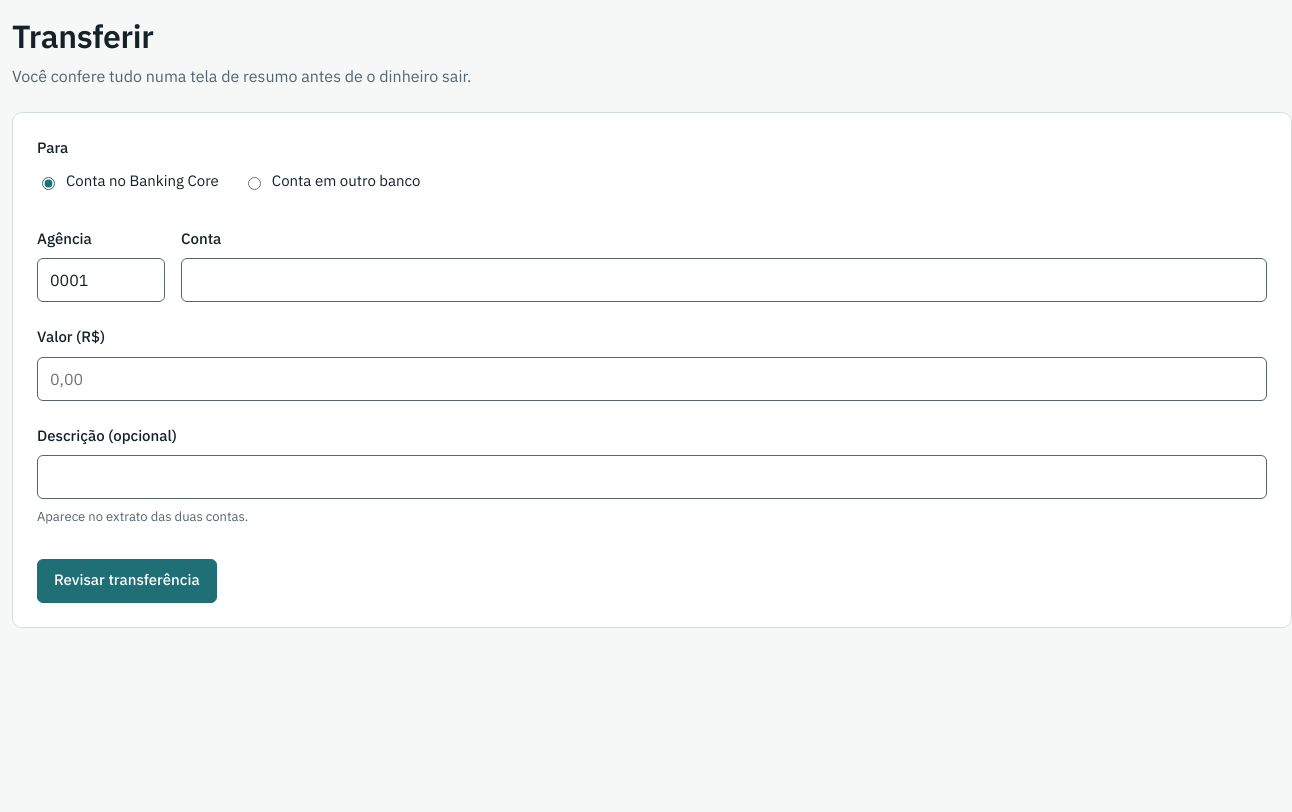
Scenario: Transferir › valor inválido não chega à API
Type "2" into the field labelled "Conta".
click(724, 280); type("2")  # box [181,258,1267,302]
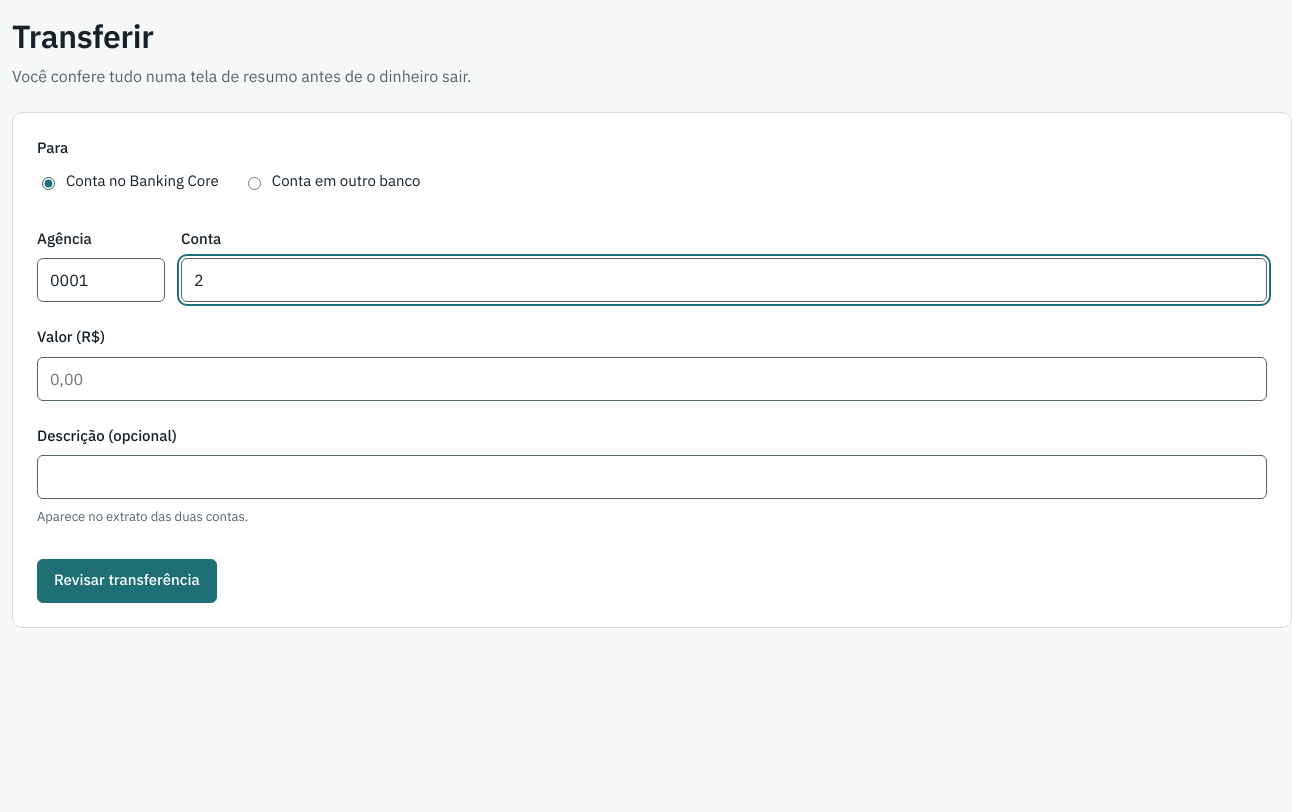
Type "12,345" into the field labelled "Valor (R$)".
click(652, 378); type("12,345")  # box [37,356,1267,400]
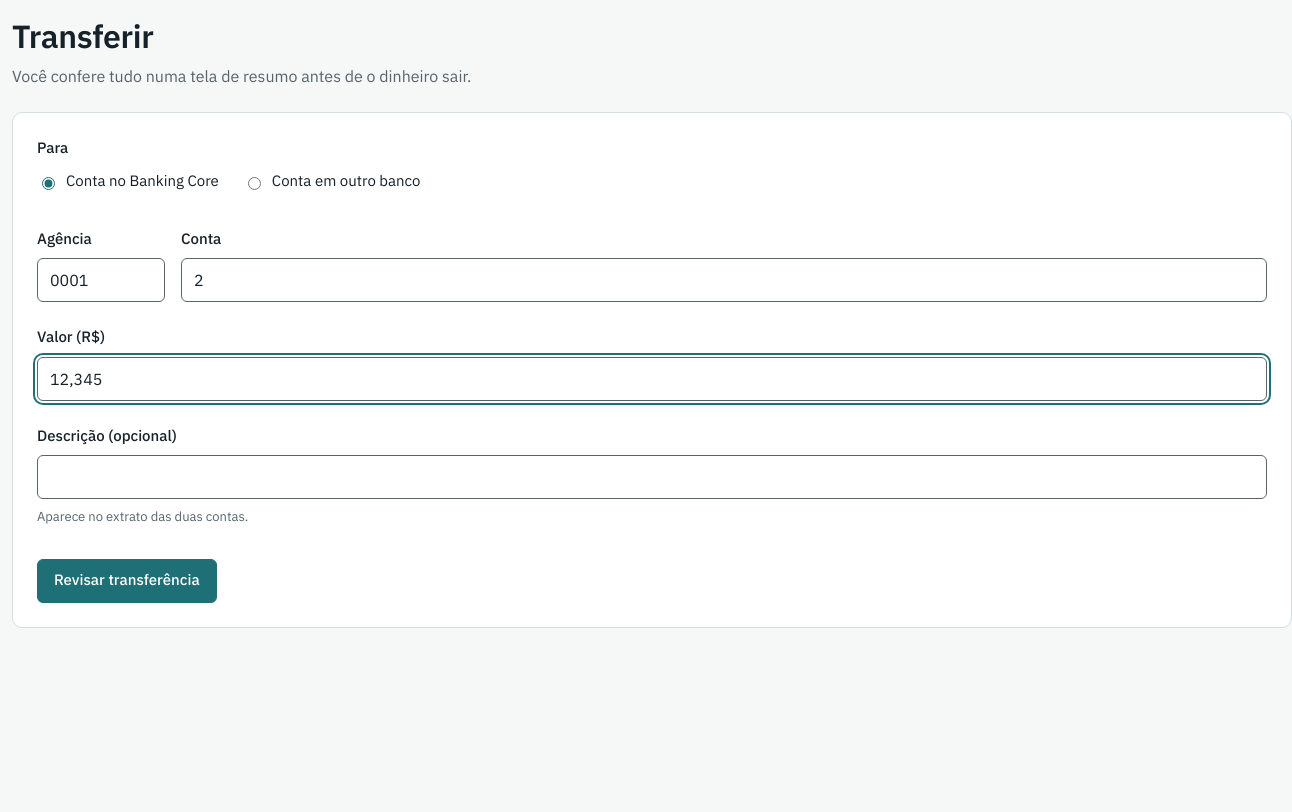
Click the button "Revisar transferência".
click(127, 580)  # box [37,558,217,602]
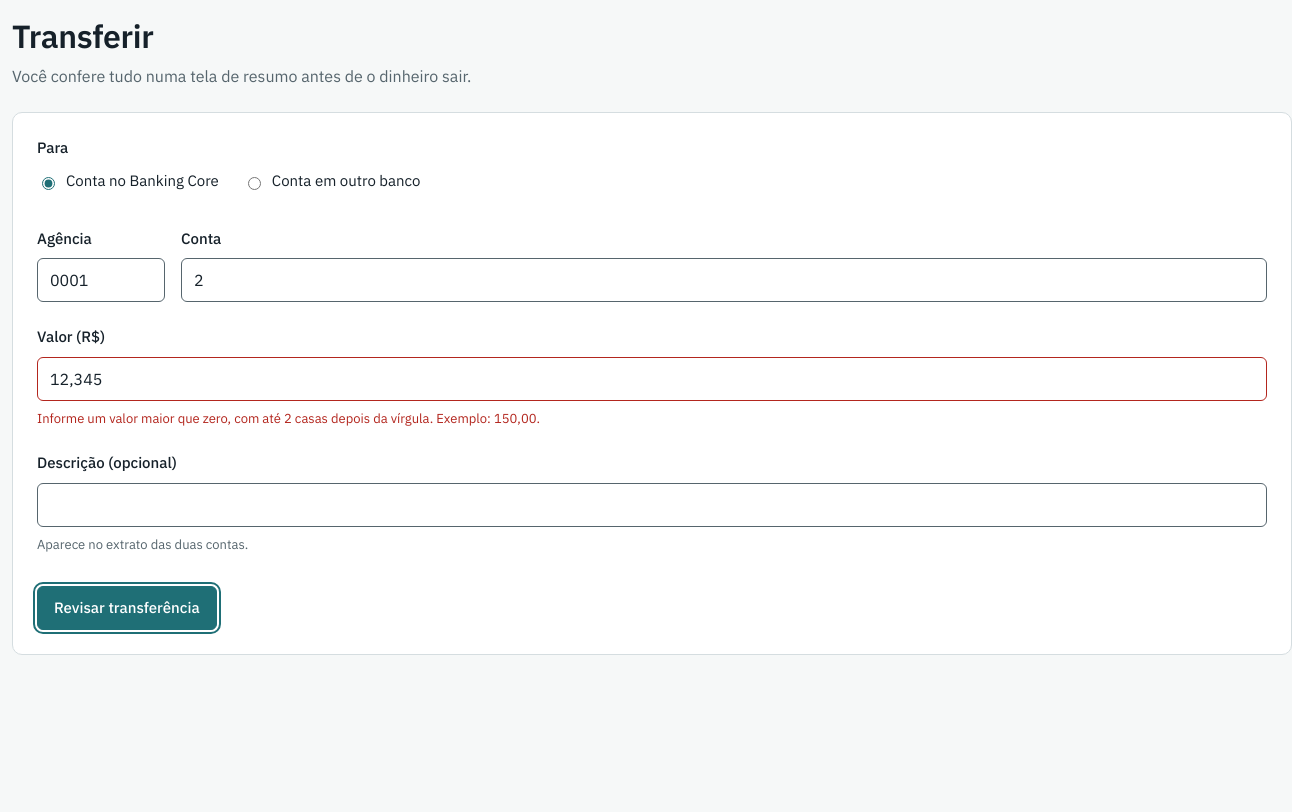
Now the text "Informe um valor maior que zero" is shown, box [37,410,540,426]
